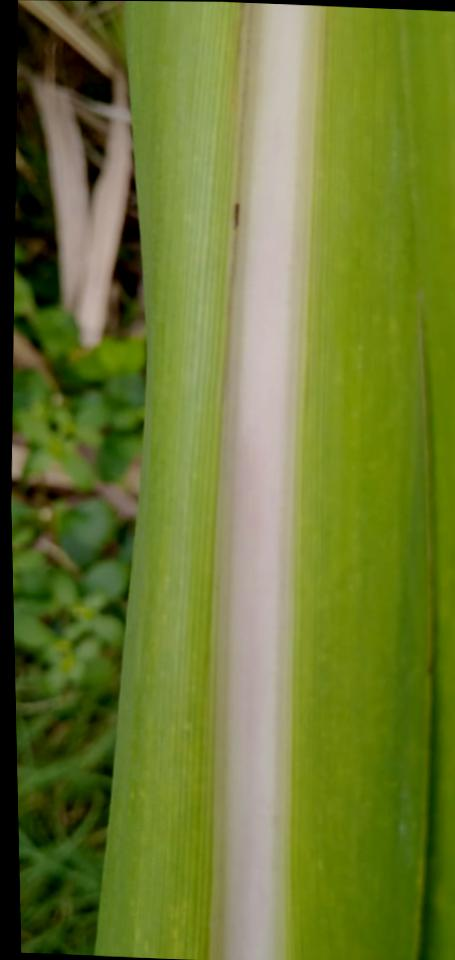Rust: (231, 202, 241, 230)
